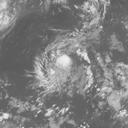cyclone: (33, 43, 92, 95)
